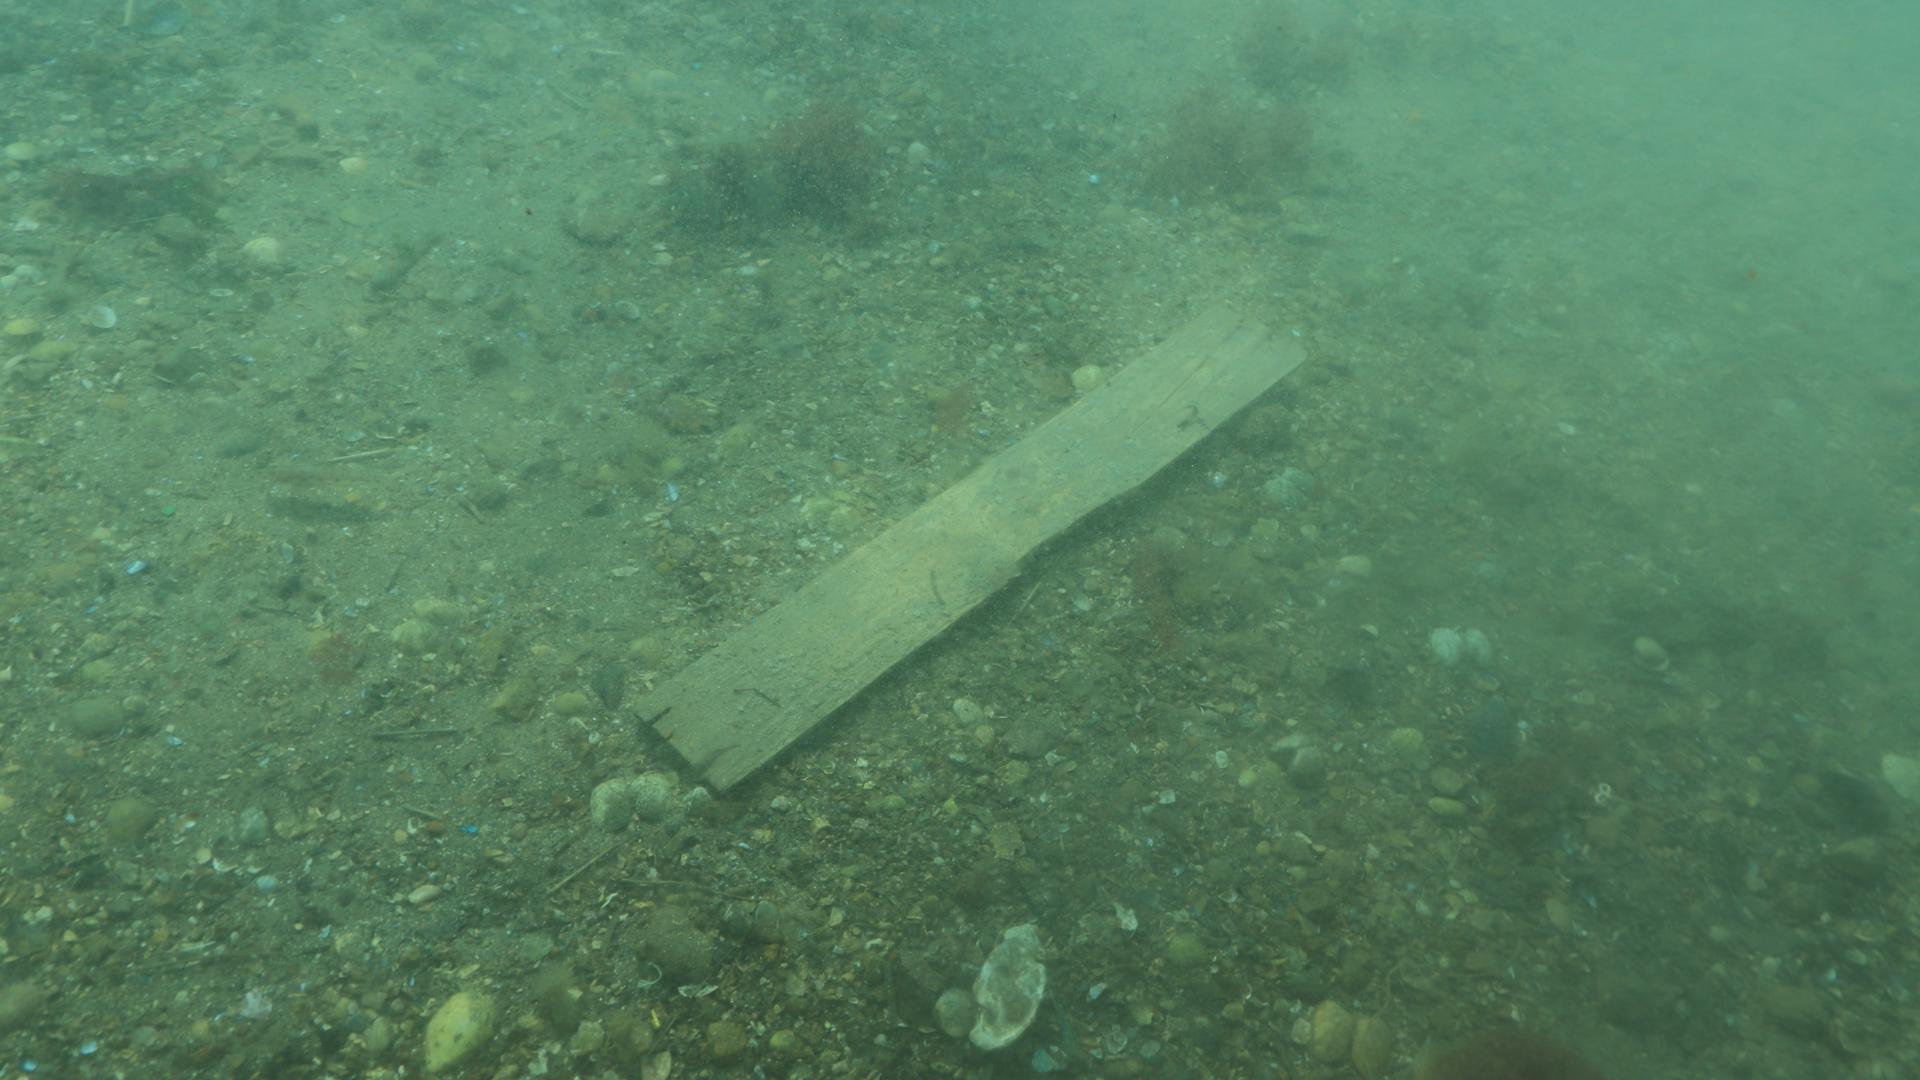wood: (622, 294, 1315, 800)
